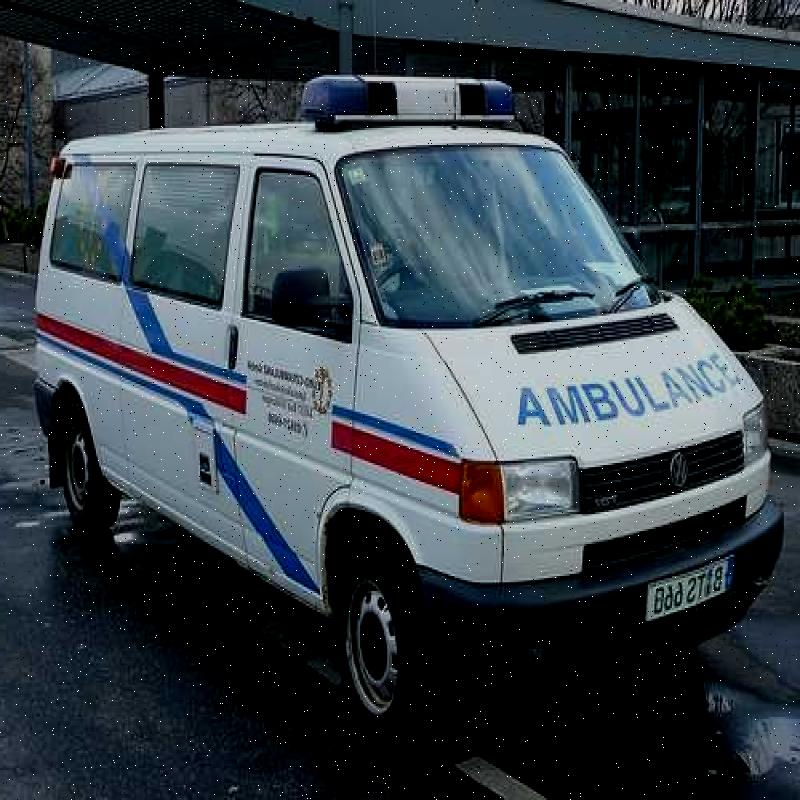AmbulanceSiren: (283, 41, 527, 165)
